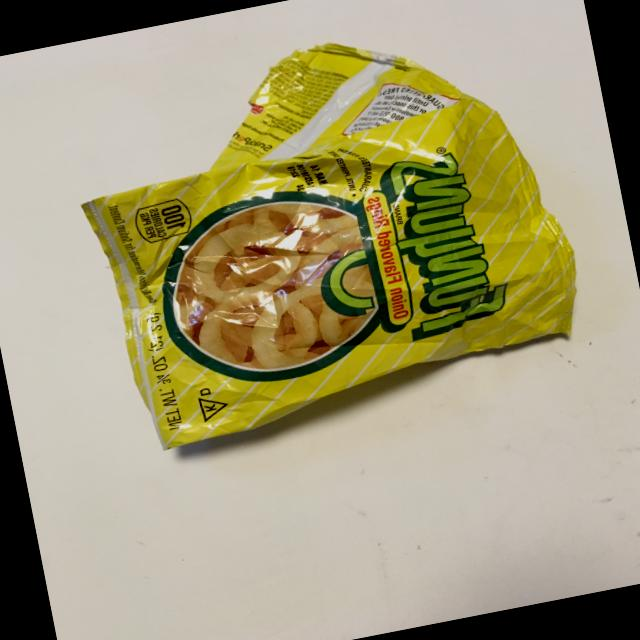Plastic: (47, 9, 602, 492)
